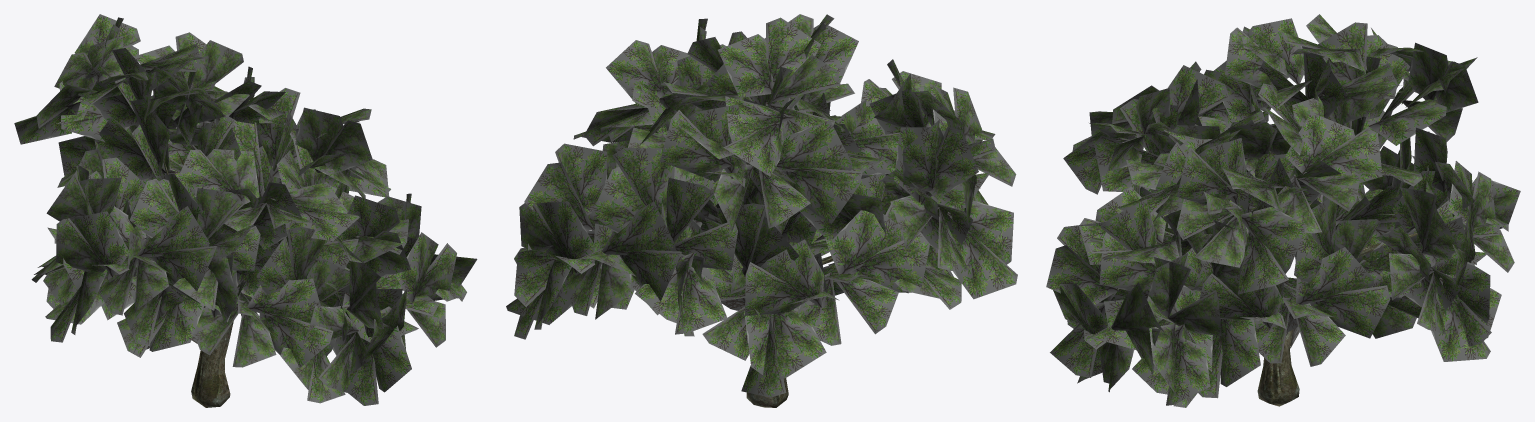
The model's file is thin_leave_tree_big_bright_green.fbx.
3 renders of one model, left to right at view 1: azimuth 30°, elevation 25°; view 2: azimuth 150°, elevation 25°; view 3: azimuth 270°, elevation 25°, orthographic. The views are drawn at different scales.
Parts seen in each view (by area): view 1: leaf.LOD1, trunk.LOD1; view 2: leaf.LOD1, trunk.LOD1; view 3: leaf.LOD1, trunk.LOD1.
Part boxes in pixels (x1,y1,x2,y2): leaf.LOD1: (14, 14, 477, 405); trunk.LOD1: (164, 148, 233, 407); leaf.LOD1: (506, 14, 1017, 397); trunk.LOD1: (746, 256, 833, 407); leaf.LOD1: (1046, 14, 1520, 407); trunk.LOD1: (1257, 203, 1417, 406).
Size of the model in its own units: 1.91 by 1.61 by 1.89.
Materials: 2 (2 with a texture image).
